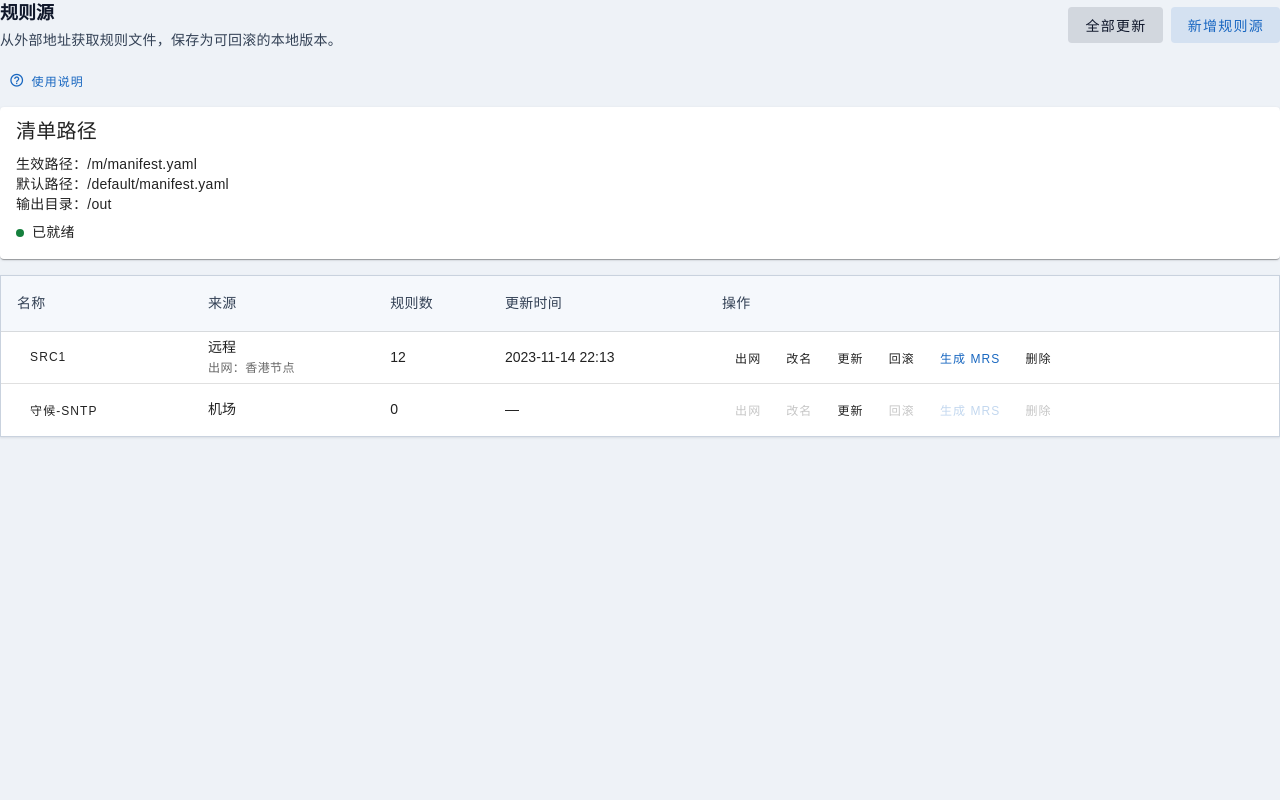
it: RuleSourcesPage › 规则源显示单独出网节点，并可通过对话框修改
Expected: the text with test id "source-outbound" shows "香港节点", x1=208 y1=361 x2=295 y2=375
Step 1. Click the button with test id "source-outbound-btn" in the row of "远程" → (748,357), box x1=722 y1=343 x2=773 y2=371
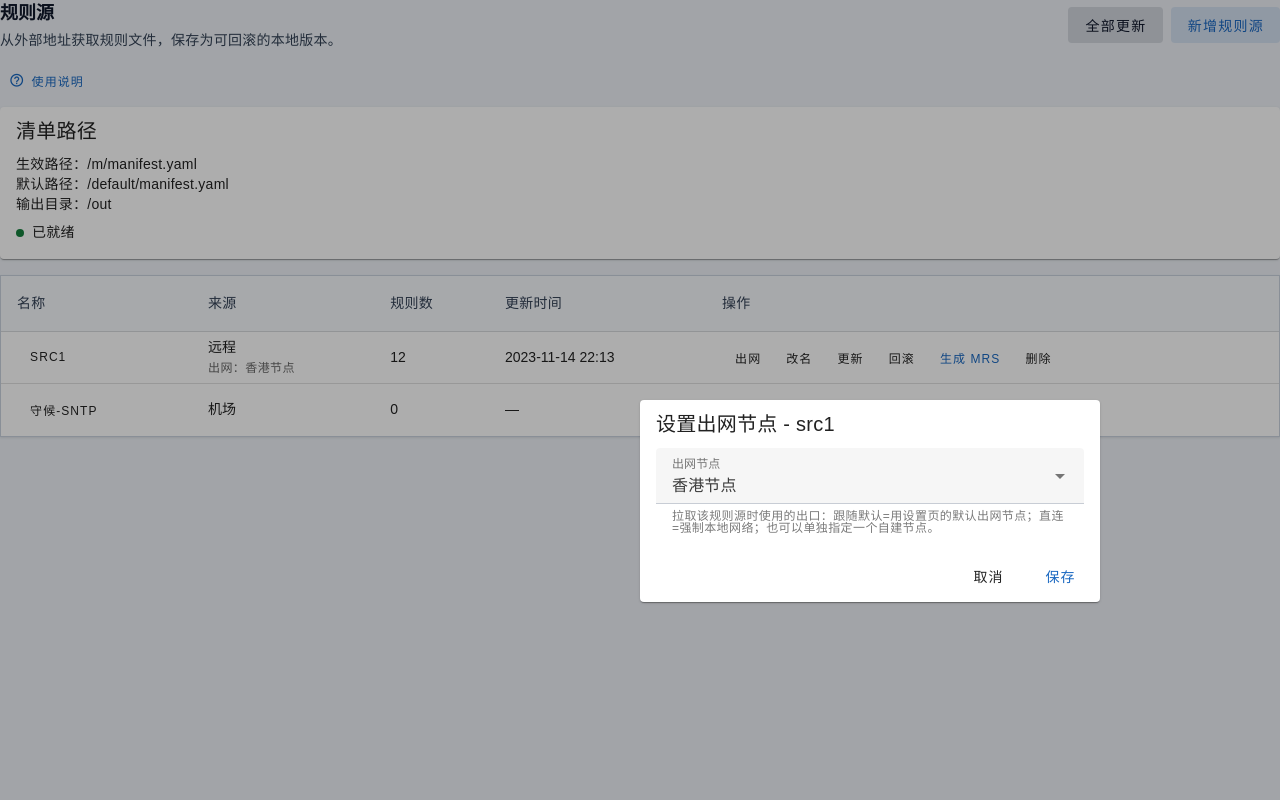
Expected: the element that starts with "出网节点" is shown, x1=656 y1=448 x2=1084 y2=534
